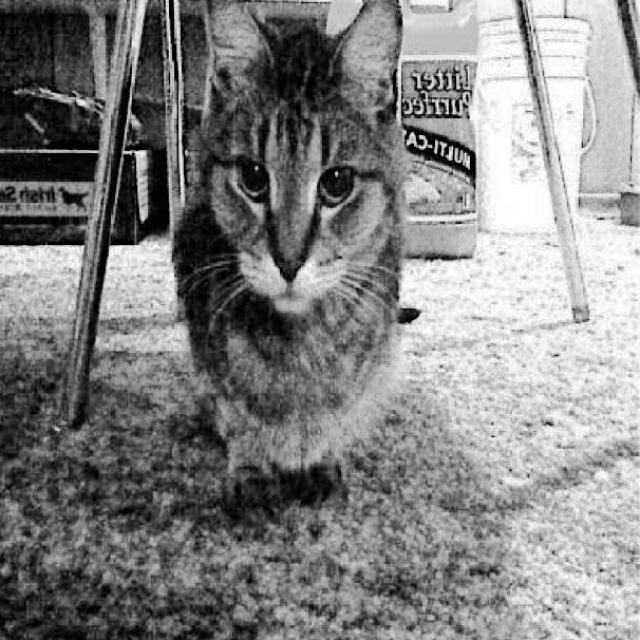Cat: (164, 0, 418, 474)
